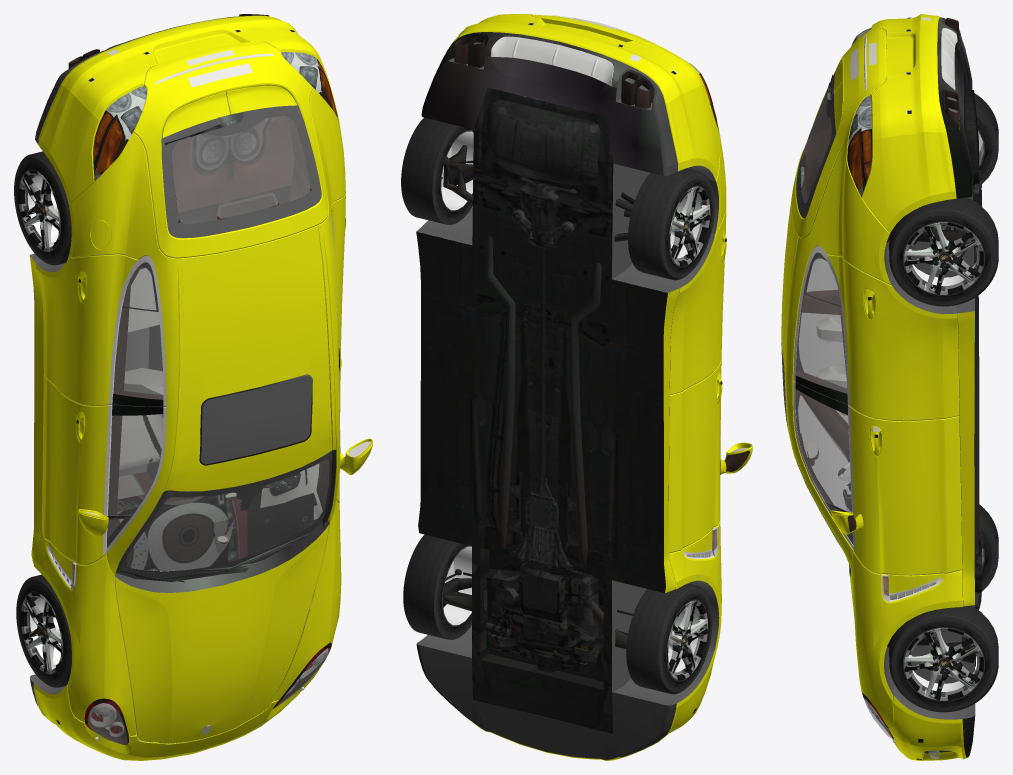
The picture shows the model from 3 angles, left to right: view 1: azimuth 30°, elevation 25°; view 2: azimuth 150°, elevation 25°; view 3: azimuth 270°, elevation 25°; orthographic projection. The views are drawn at different scales.
Parts seen in each view (by area): view 1: object0, Object01, Object02; view 2: object0, Object01, Object02; view 3: object0, Object01, Object02.
Part boxes in pixels (x1,y1,x2,y2): object0: (27, 14, 372, 760); Object01: (14, 151, 290, 687); Object02: (18, 170, 62, 673); object0: (416, 14, 752, 760); Object01: (401, 117, 714, 694); Object02: (441, 177, 710, 680); object0: (781, 14, 983, 760); Object01: (889, 93, 998, 712); Object02: (904, 222, 983, 700).
Bounding box in the file's own units: 27.29 × 63.87 × 18.18.
11 materials, 7 textured.
